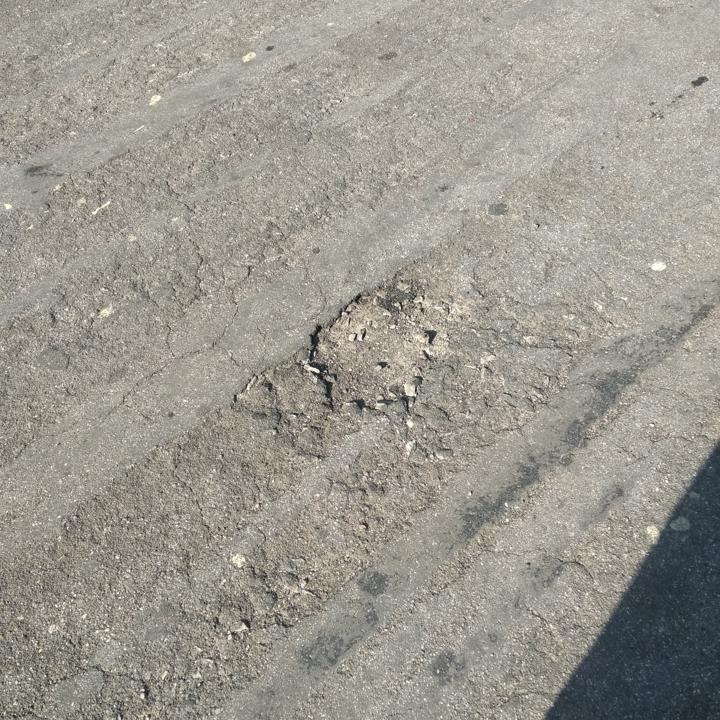pothole: (298, 278, 460, 420)
